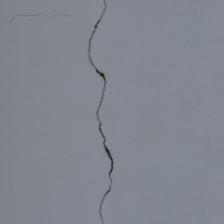Crack: (68, 0, 88, 144), (29, 45, 50, 158)
